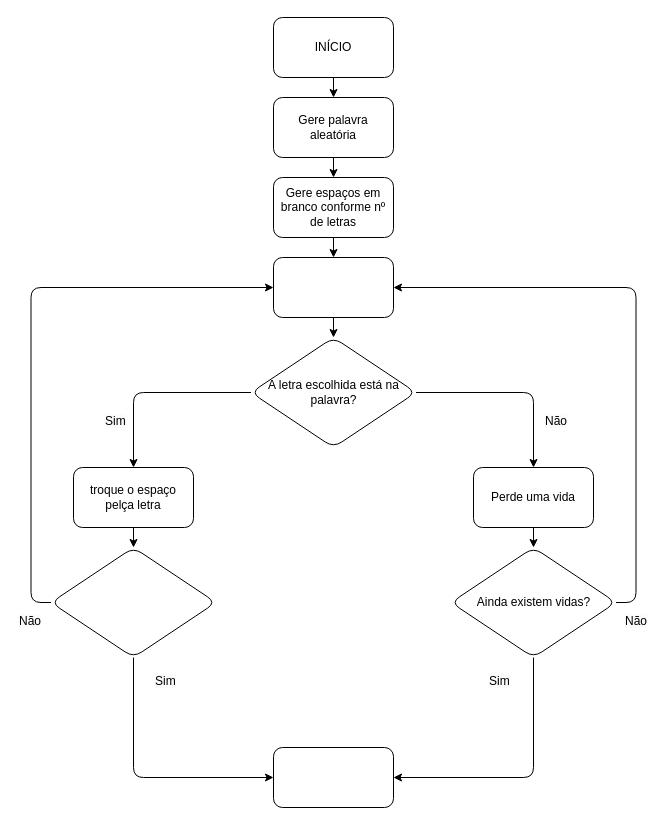
Some shapes in this 664 by 825 pixel diagram are drawn without their labels. Each missing label, with the box of its shape:
espaços em branco estão preenchidos?: (50, 546, 216, 658)
Fim do Jogo: (272, 746, 394, 808)
Peça ao ussuário escolher uma letra: (272, 256, 394, 318)
